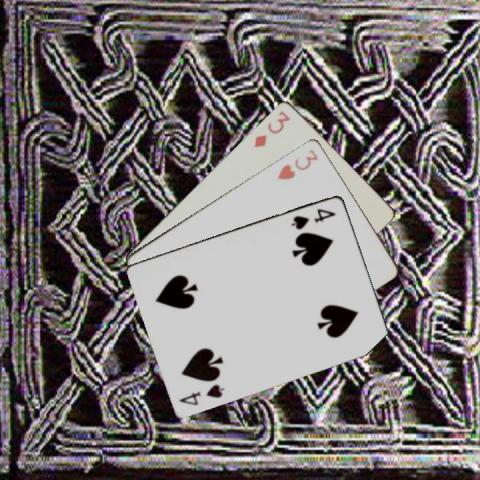3d: (251, 107, 291, 149)
3h: (274, 146, 319, 181)
4s: (176, 380, 227, 406), (288, 205, 337, 231)
